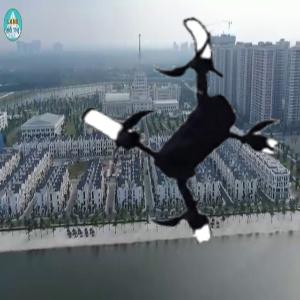drone: (63, 14, 293, 244)
